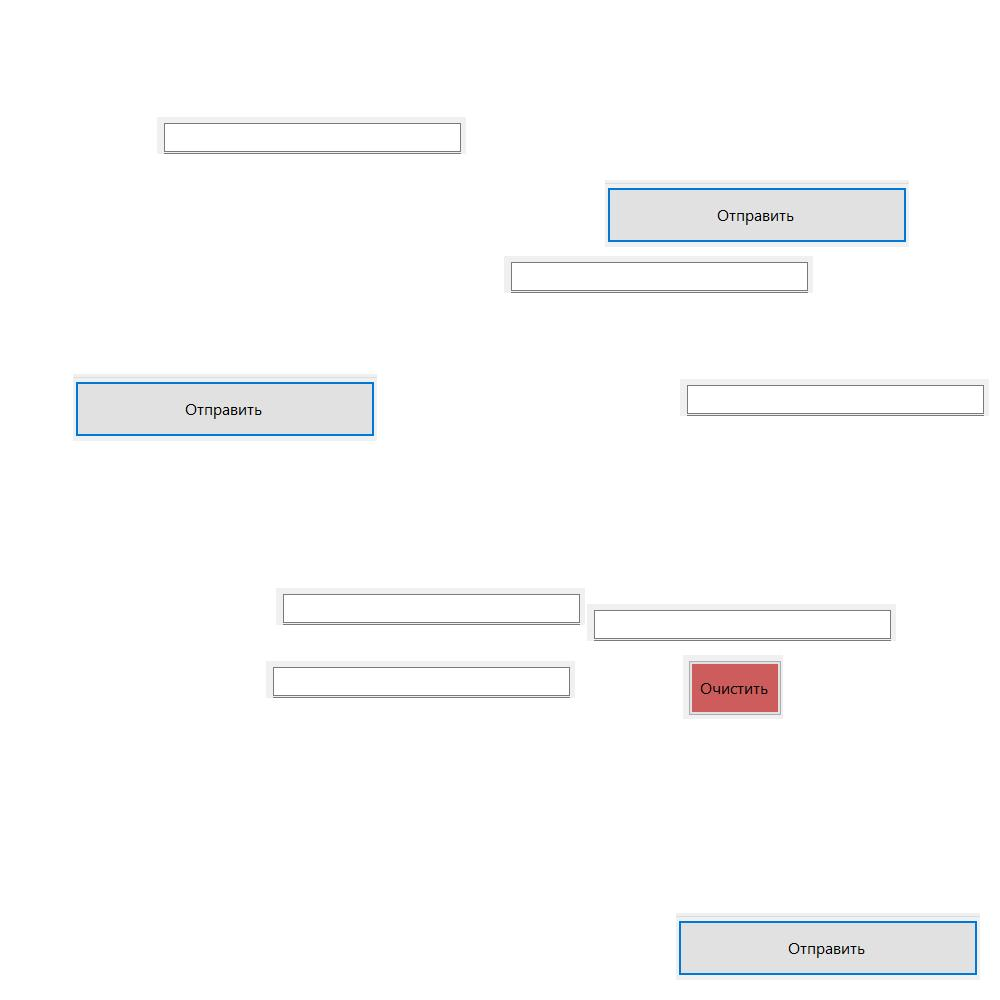Button: (605, 180, 909, 247), (73, 374, 377, 441), (676, 913, 980, 980), (683, 655, 783, 719)
EditText-: (276, 588, 585, 625), (266, 661, 575, 698), (504, 256, 813, 293), (587, 604, 896, 641), (157, 117, 466, 154), (680, 379, 989, 416)
